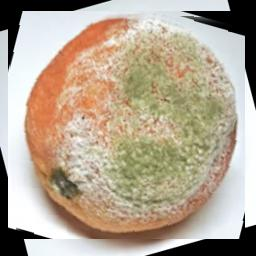Orange Rotten: (9, 11, 246, 239)
